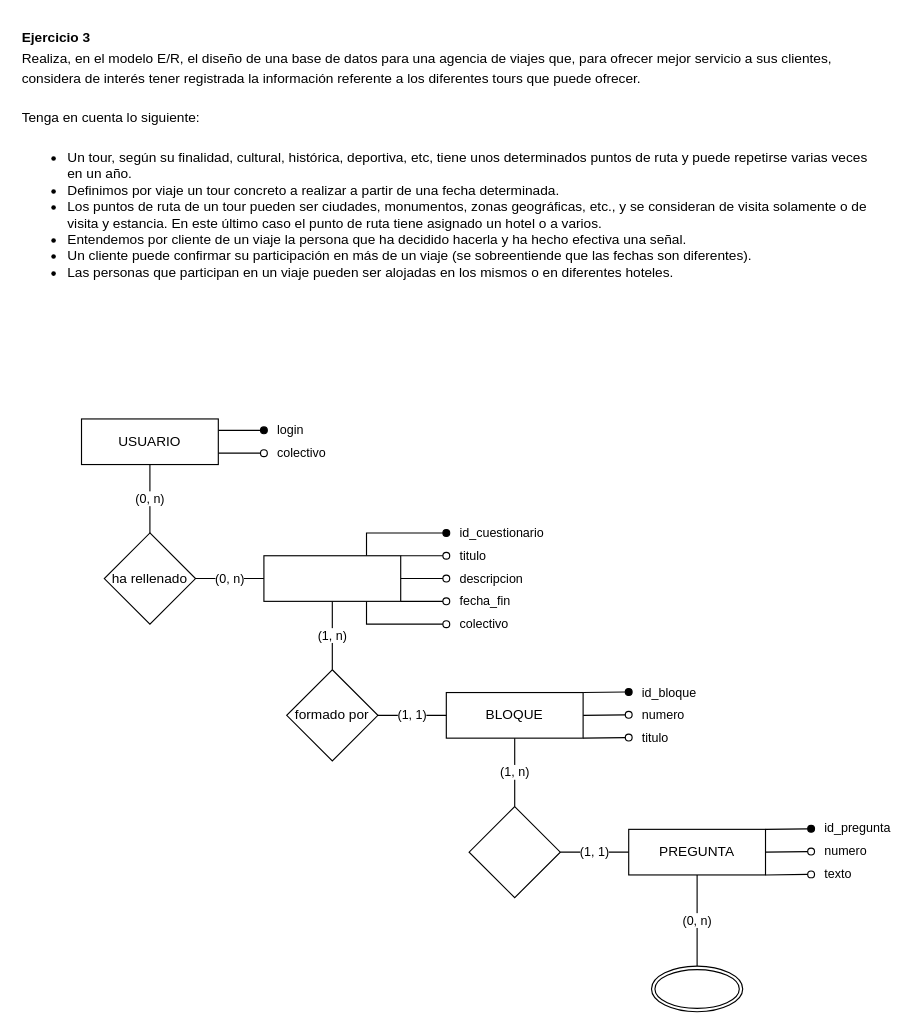
Image size: 911x1032. Some labels were removed from this diagram. The shapes that lost their labels are listed below. From the top down, each one's box as (x1, y1, x2, y2) in pixels, then its label:
(263, 555, 401, 601): CUESTIONARIO
(468, 805, 560, 898): consta de
(650, 965, 743, 1012): respuesta
